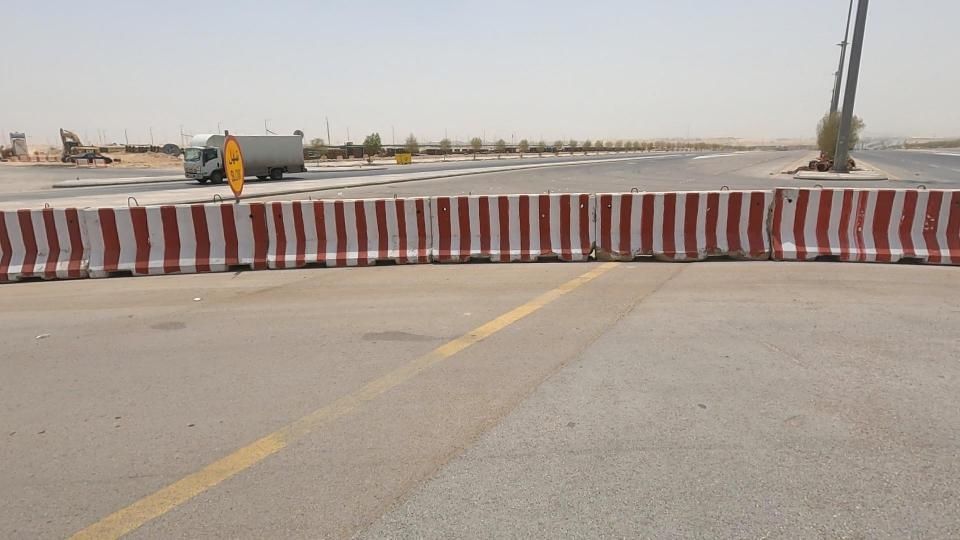CONSTRUCTION_ROAD: (272, 129, 960, 332), (0, 143, 369, 308)
